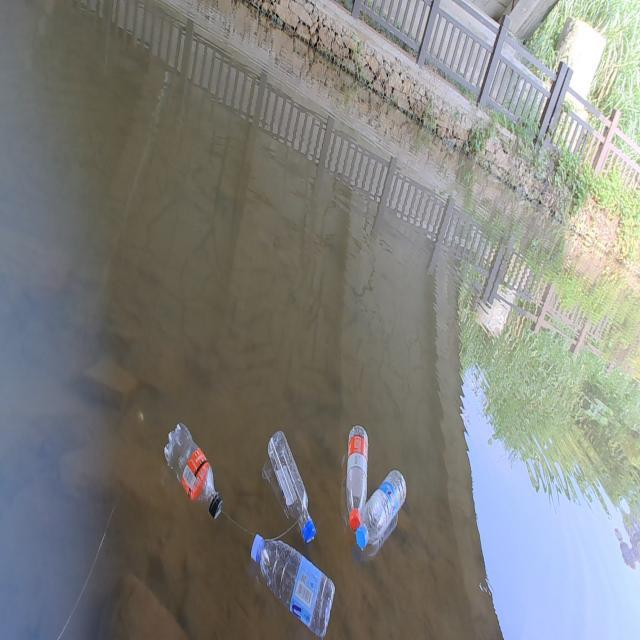bottle: (152, 398, 240, 522), (255, 410, 332, 542), (247, 533, 339, 640), (354, 469, 409, 557), (340, 415, 373, 530)
